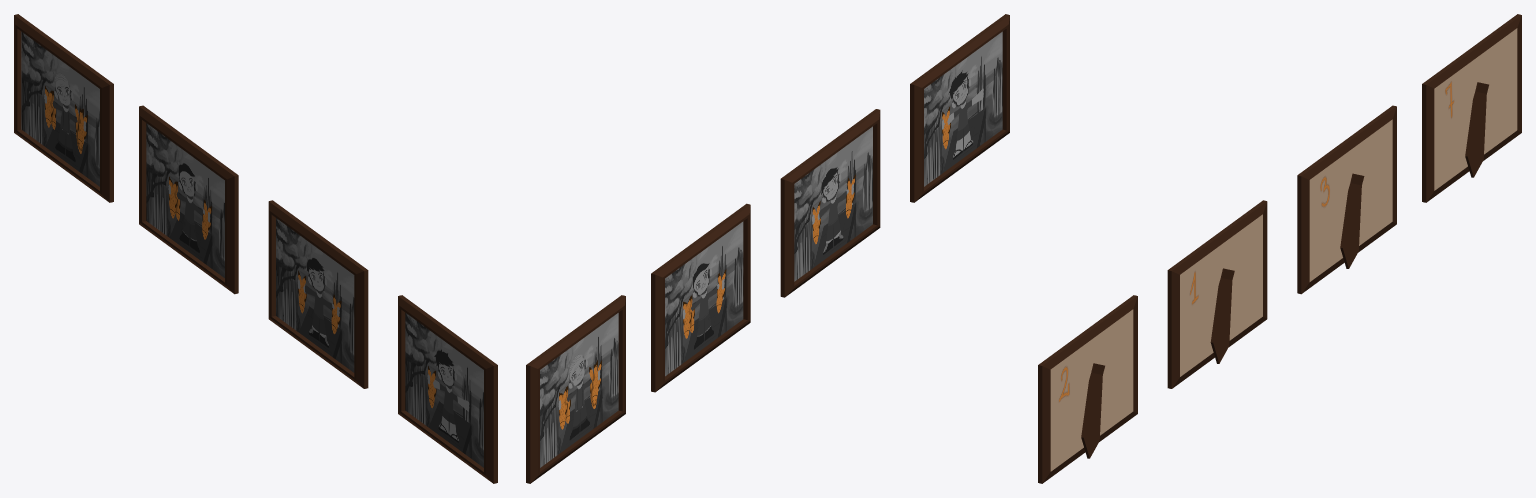
File: f_frames_01 1.fbx
The picture shows the model from 3 angles, left to right: view 1: azimuth 30°, elevation 25°; view 2: azimuth 150°, elevation 25°; view 3: azimuth 330°, elevation 25°; orthographic projection.
Visible parts, largest first — view 1: Cube.012, Cube.002, Cube.010, Cube.037; view 2: Cube.012, Cube.002, Cube.010, Cube.037; view 3: Cube.012, Cube.002, Cube.037, Cube.010.
Boxes of the visible parts, box(x1,y1,x2,y2) form: Cube.012: box(268, 200, 368, 388); Cube.002: box(14, 14, 113, 202); Cube.010: box(139, 105, 238, 294); Cube.037: box(398, 295, 497, 483); Cube.012: box(780, 109, 880, 297); Cube.002: box(526, 295, 625, 483); Cube.010: box(651, 203, 750, 392); Cube.037: box(910, 14, 1009, 202); Cube.012: box(1167, 200, 1267, 388); Cube.002: box(1422, 14, 1521, 202); Cube.037: box(1038, 295, 1137, 483); Cube.010: box(1297, 105, 1396, 294).
Bounding box in the file's own units: 7.07 × 35.74 × 263.
